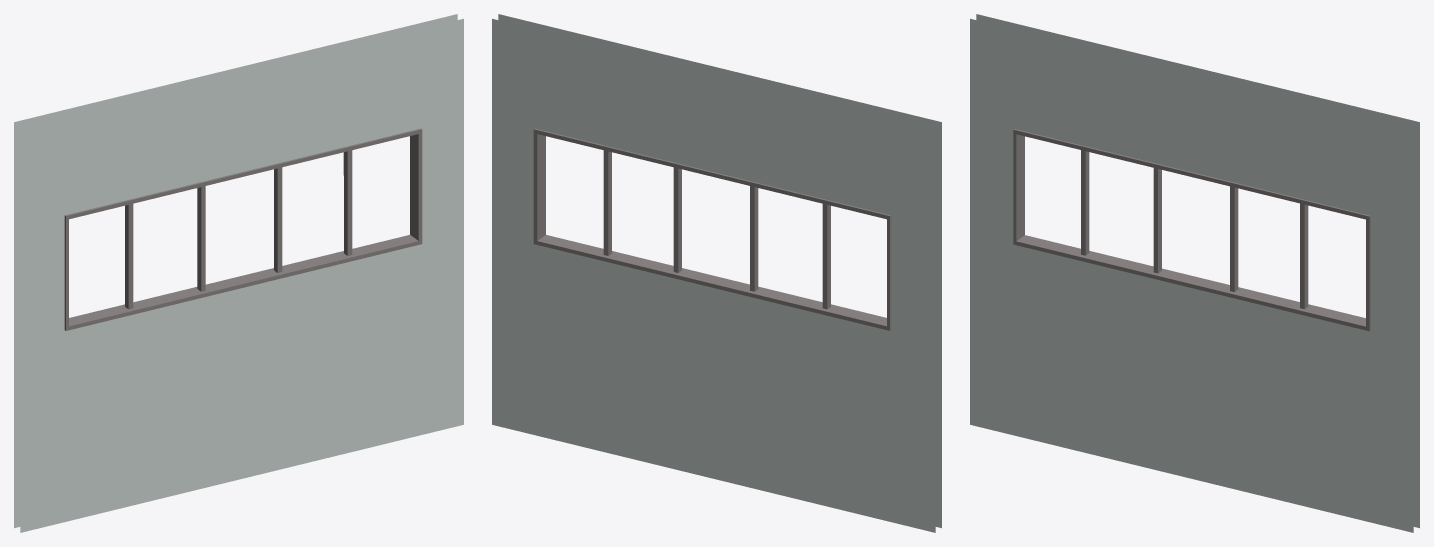
The model's file is SM_Wall_Outer_Window_B_800.fbx.
3 renders of one model, left to right at view 1: azimuth 30°, elevation 25°; view 2: azimuth 150°, elevation 25°; view 3: azimuth 330°, elevation 25°, orthographic.
Visible parts, largest first — view 1: SM_Wall_Outer_Window_B_800; view 2: SM_Wall_Outer_Window_B_800; view 3: SM_Wall_Outer_Window_B_800.
Part boxes in pixels (x1,y1,x2,y2): SM_Wall_Outer_Window_B_800: (14,14,463,532); SM_Wall_Outer_Window_B_800: (492,14,941,532); SM_Wall_Outer_Window_B_800: (970,14,1419,532).
Bounding box in the file's own units: 800 × 27.27 × 700.
5 materials, 5 textured.
